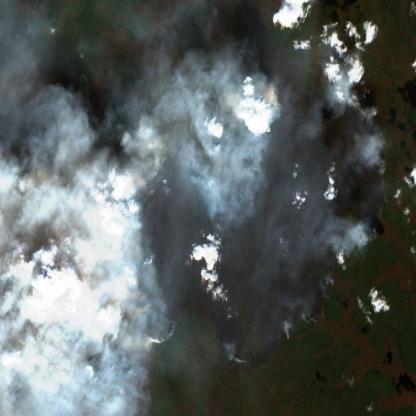fire: (70, 105, 302, 351)
